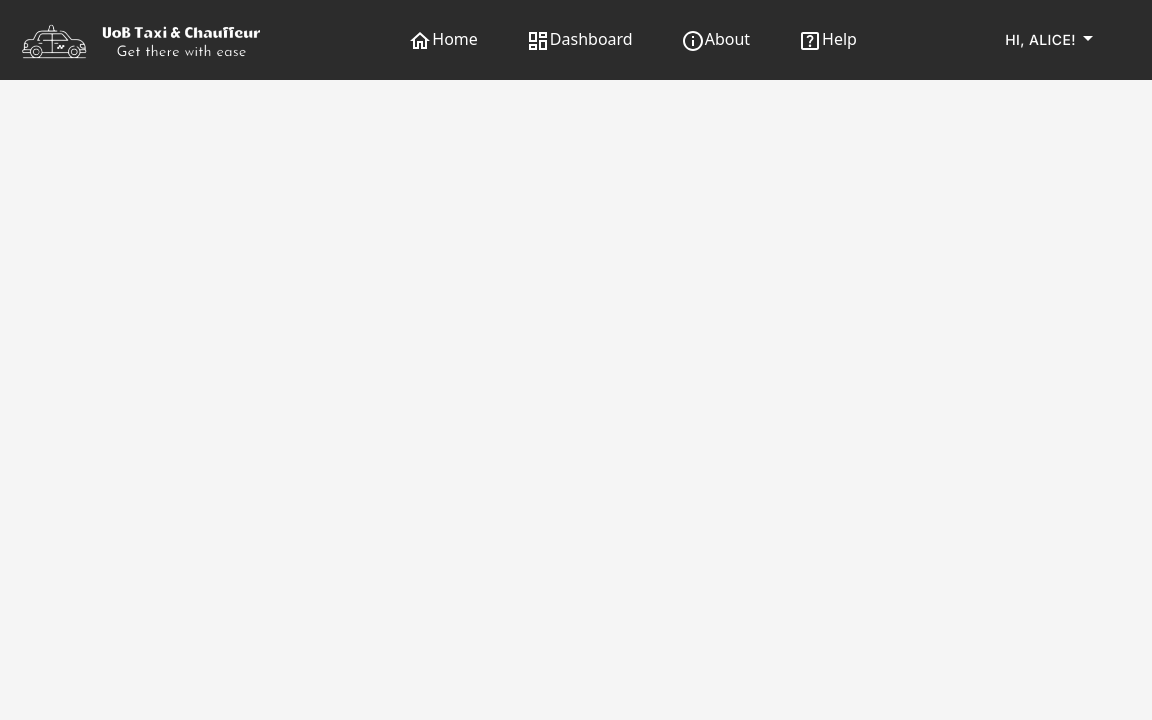
Navbar › opens sign-out confirmation dialog when clicking Logout
The image size is (1152, 720).
Click the button "Hi, Alice!".
click(1053, 40)  # box [997,20,1108,60]
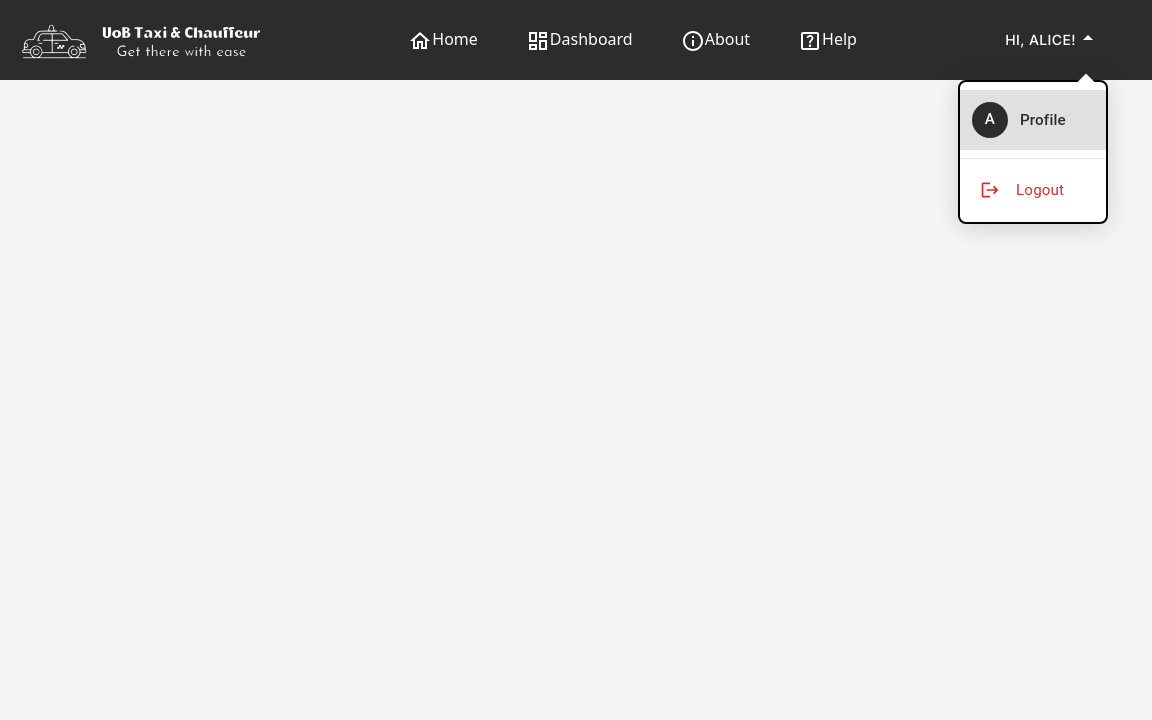
Click the menu item "Logout".
click(1022, 190)  # box [980,180,1064,200]
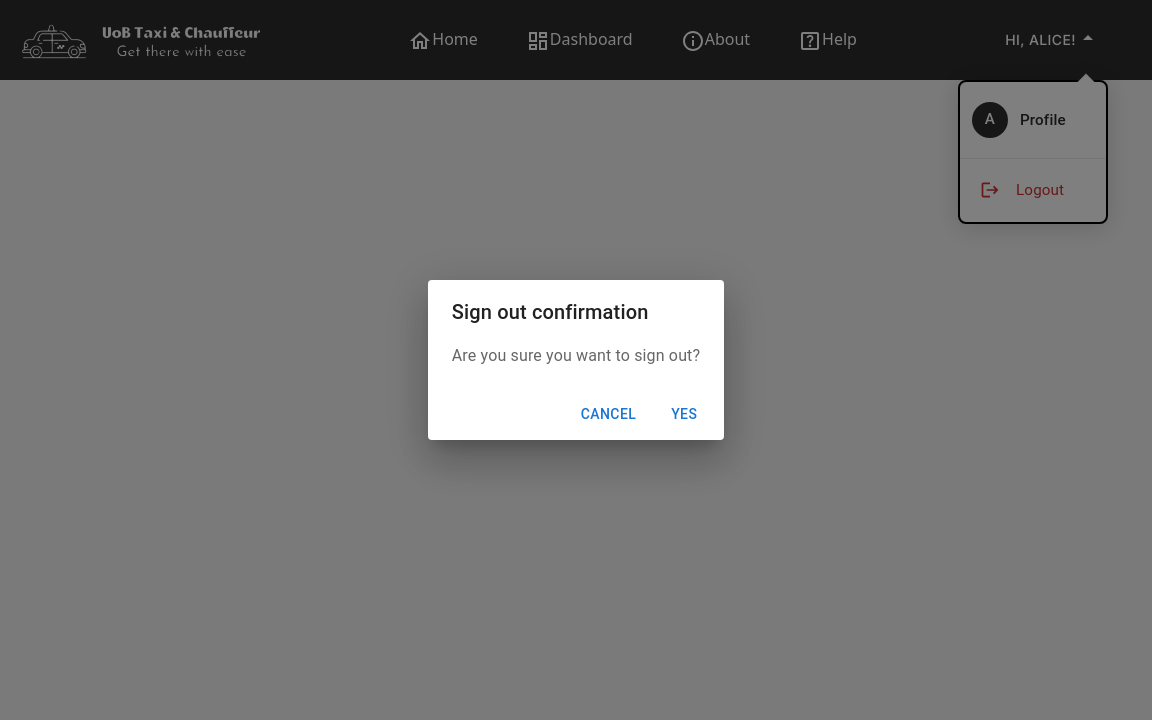
Result: the heading "Sign out confirmation" is shown at [452,300,648,324]
Result: the text "Are you sure you want to sign out?" is shown at [452,344,700,368]
